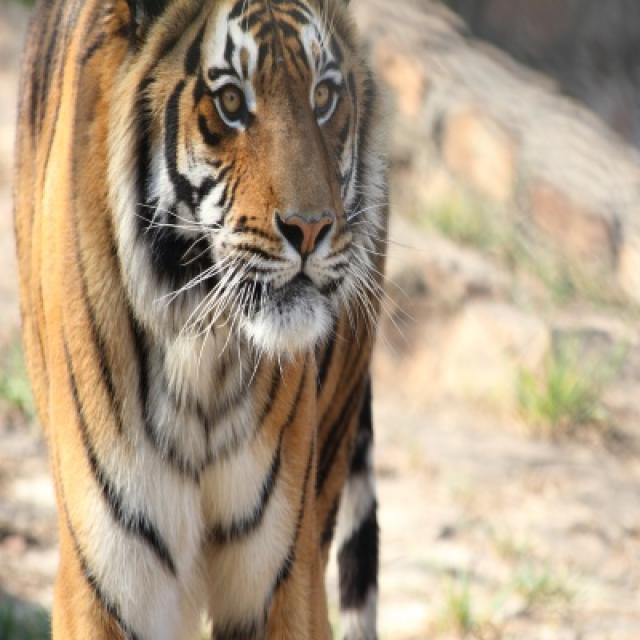Tiger: (14, 0, 387, 638)
